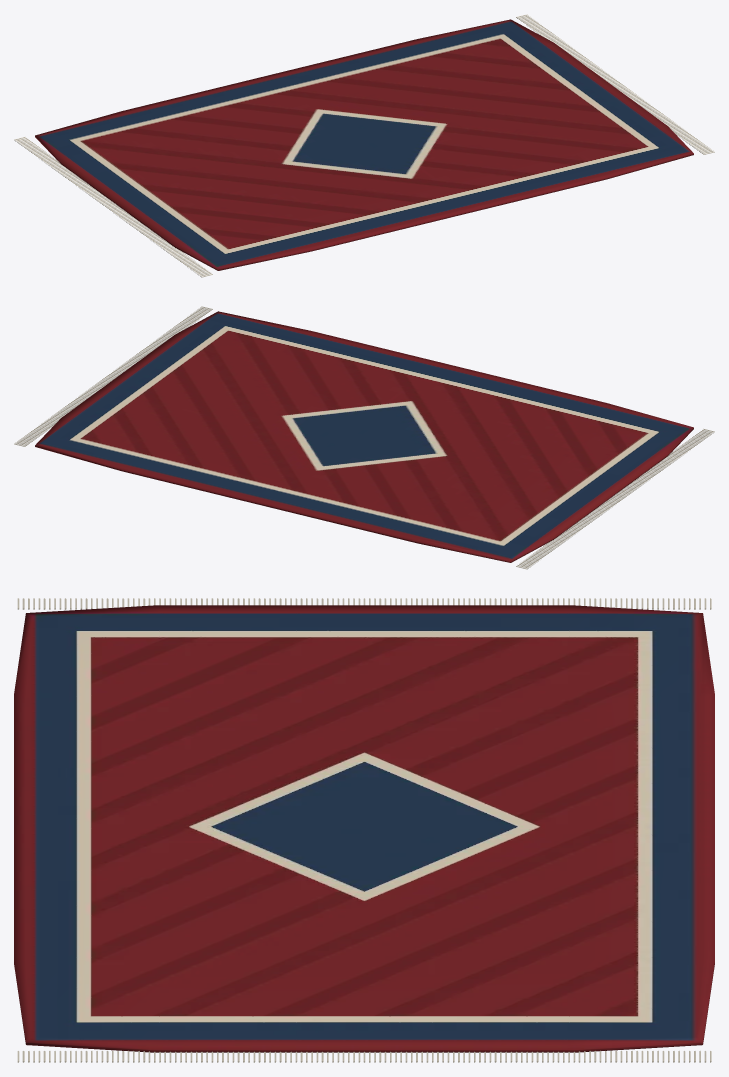
File: persian-red.glb
3 views of the same model, one above another, from view 1: azimuth 30°, elevation 25°; view 2: azimuth 150°, elevation 25°; view 3: azimuth 270°, elevation 25° (orthographic). The views are drawn at different scales.
Visible parts, largest first — view 1: rug_wool, fringe_cotton; view 2: rug_wool, fringe_cotton; view 3: rug_wool, fringe_cotton.
Boxes of the visible parts, bbox=[...] form: rug_wool: bbox=[35, 19, 693, 270]; fringe_cotton: bbox=[14, 14, 714, 277]; rug_wool: bbox=[35, 311, 693, 562]; fringe_cotton: bbox=[14, 306, 714, 569]; rug_wool: bbox=[14, 605, 714, 1052]; fringe_cotton: bbox=[17, 598, 711, 1062].
Bounding box in the file's own units: 2.5 × 0.012 × 1.6.
2 materials, 2 textured.
